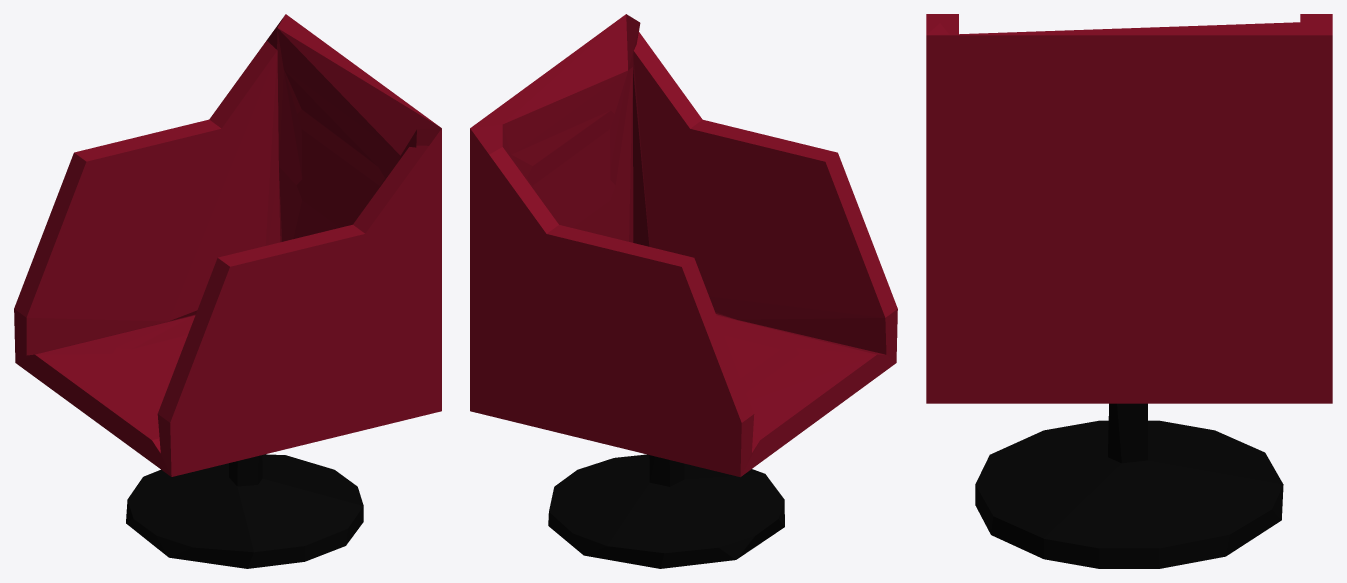
Rendered from chear_lov_poly.fbx.
The picture shows the model from 3 angles, left to right: view 1: azimuth 30°, elevation 25°; view 2: azimuth 150°, elevation 25°; view 3: azimuth 270°, elevation 25°; orthographic projection. The views are drawn at different scales.
Parts seen in each view (by area): view 1: Krzesło, noga; view 2: Krzesło, noga; view 3: Krzesło, noga.
Part boxes in pixels (left/top/right/bottom): Krzesło: left=14, top=14, right=441, bottom=476; noga: left=126, top=454, right=363, bottom=568; Krzesło: left=470, top=14, right=897, bottom=477; noga: left=548, top=454, right=784, bottom=568; Krzesło: left=926, top=14, right=1332, bottom=403; noga: left=975, top=403, right=1283, bottom=568.
Size of the model in its own units: 201 by 296 by 200.
